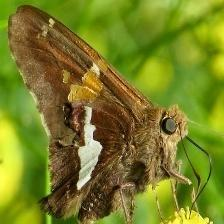butterfly: (9, 6, 191, 224)
